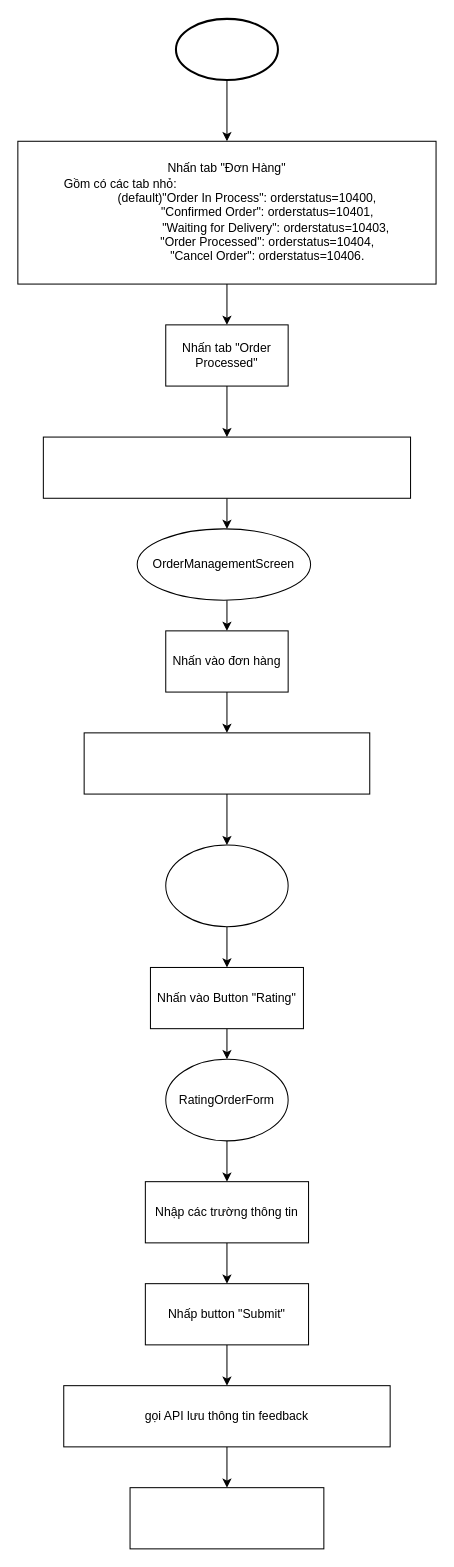
Image size: 454x1567. Some labels were removed from this diagram. Each missing label, with the centre of its shape:
Bắt đầu: [226,49]
gọi API lấy danh sách đơn hàng: [226,467]
gọi API lấy thông tin chi tiết đơn hàng: [226,763]
OrderDetailScreen: [226,885]
Thông báo đánh giá thành công: [226,1518]
